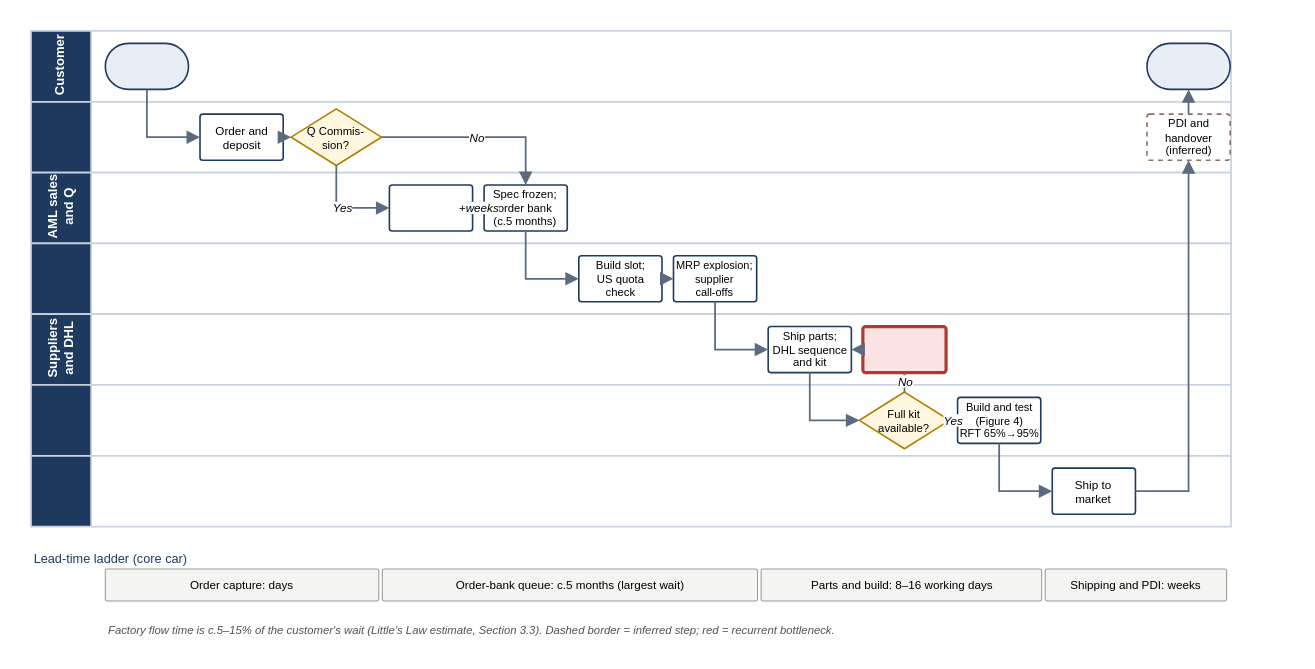
Some shapes in this 1315 by 669 pixel diagram are drawn without their labels. Each missing label, with the box of its shape:
Configure car online or at dealer: (104, 42, 189, 89)
Dealer: (29, 100, 1231, 173)
Delivery: 5–8 months after order: (1145, 42, 1230, 89)
Expedite; car held as WIP: (860, 324, 947, 373)
Outbound logistics: (29, 454, 1231, 527)
Plant: (29, 383, 1231, 456)
Production planning: (29, 242, 1231, 314)
Q design and feasibility sign-off: (388, 183, 473, 231)
